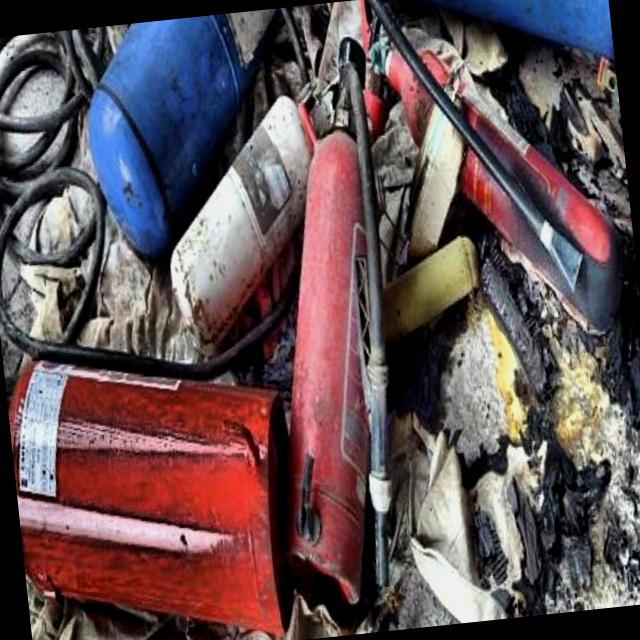Cylinders: (163, 100, 315, 355), (91, 12, 247, 252)
